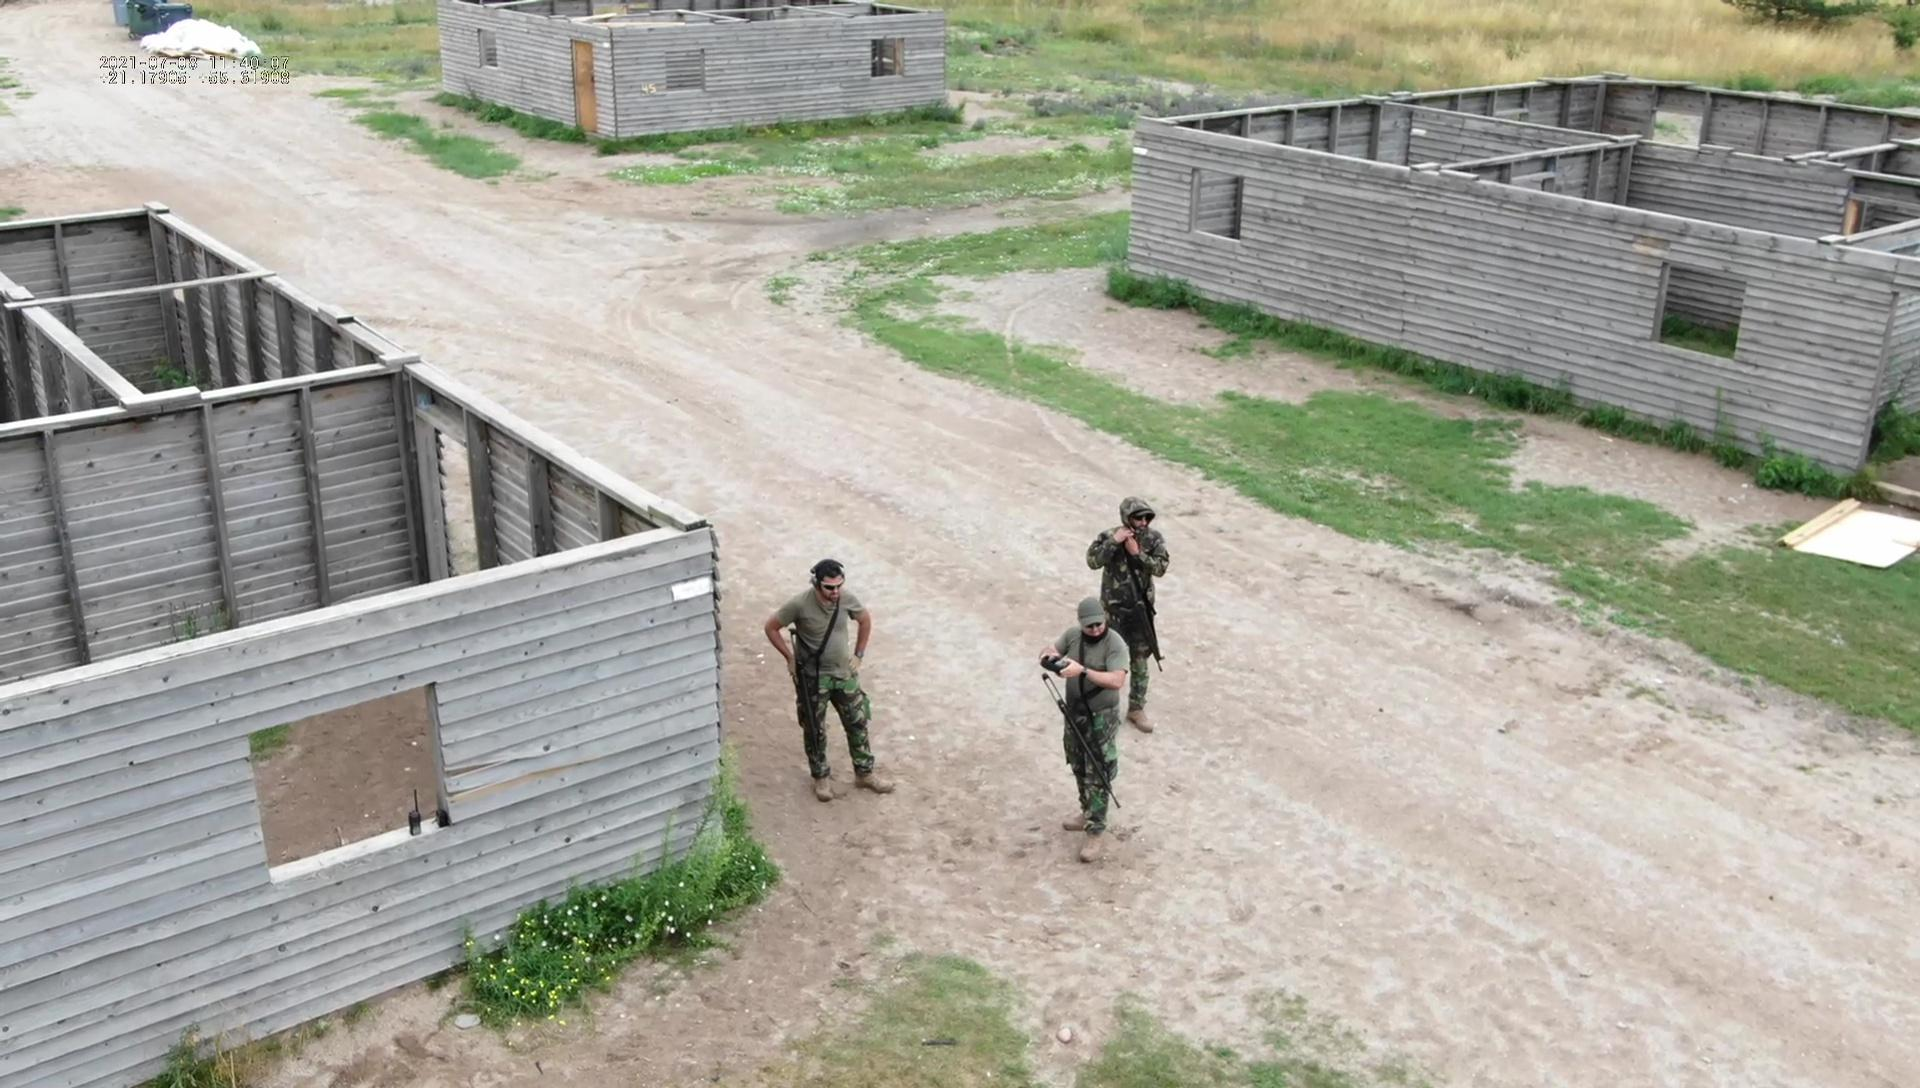Soldier: (760, 553, 898, 803), (1036, 596, 1131, 869), (1091, 493, 1174, 733)
